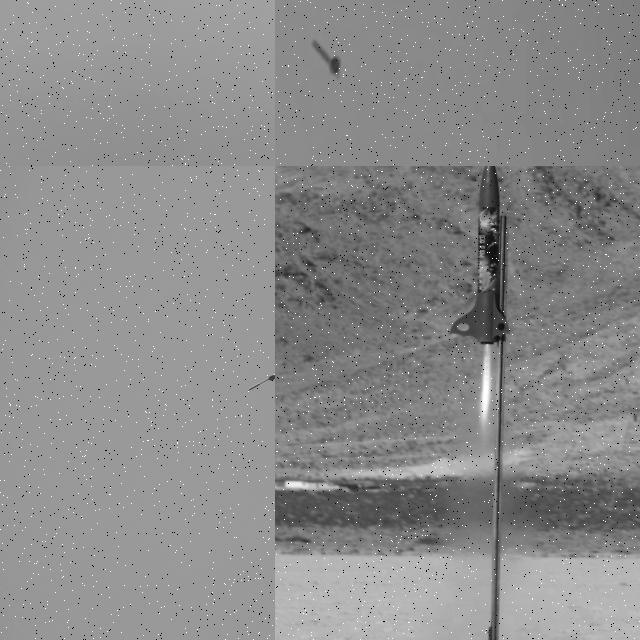Rocket: (446, 166, 511, 345), (314, 41, 341, 75), (247, 374, 275, 391)
